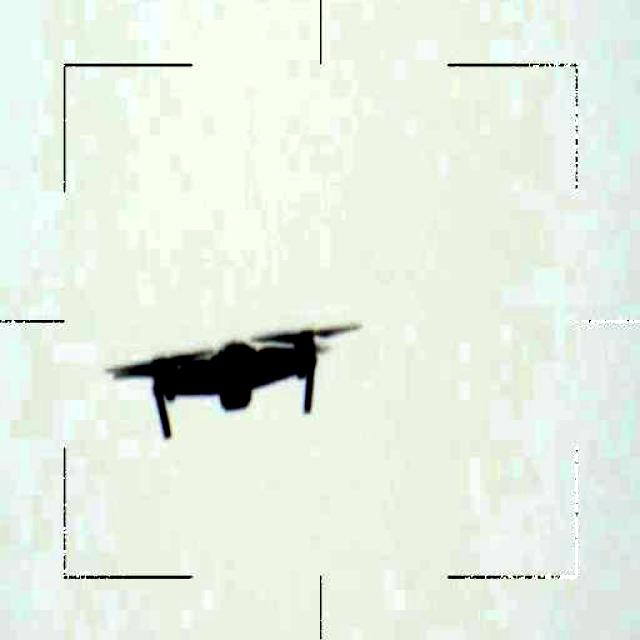bird: (105, 318, 365, 442)
